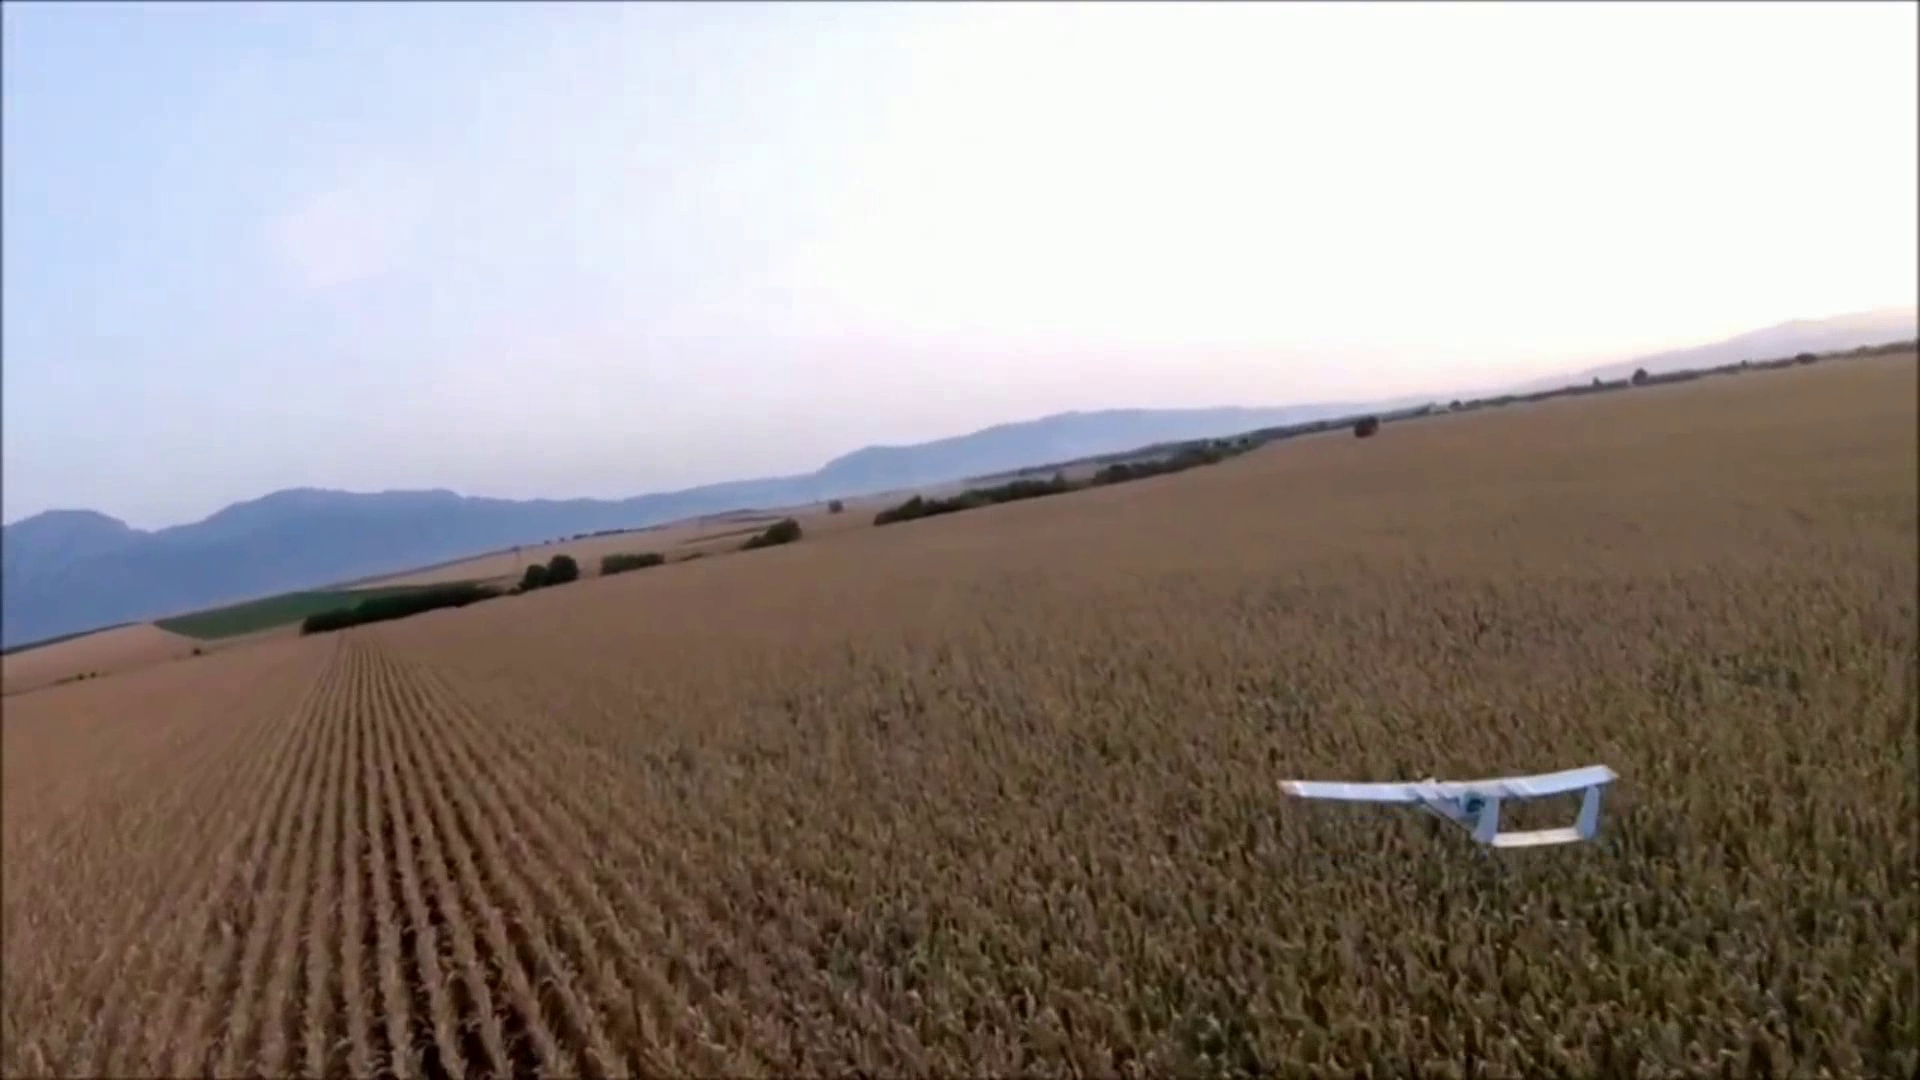airplane: (1280, 767, 1615, 853)
